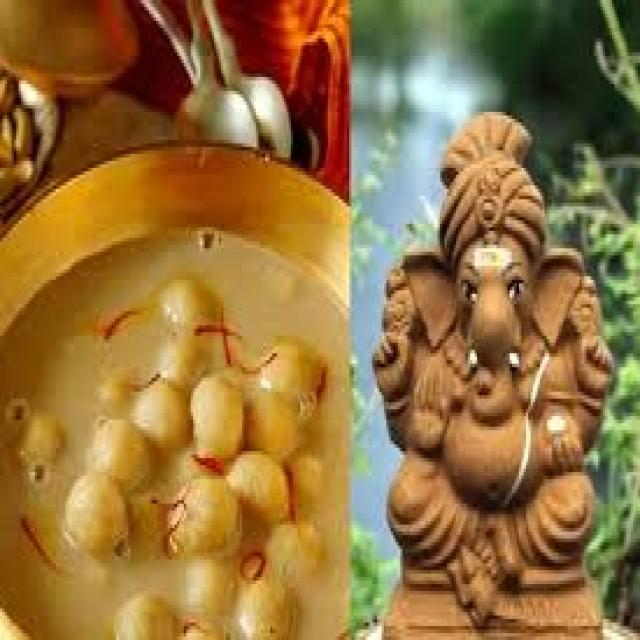paal kolukattai: (0, 189, 356, 640)
